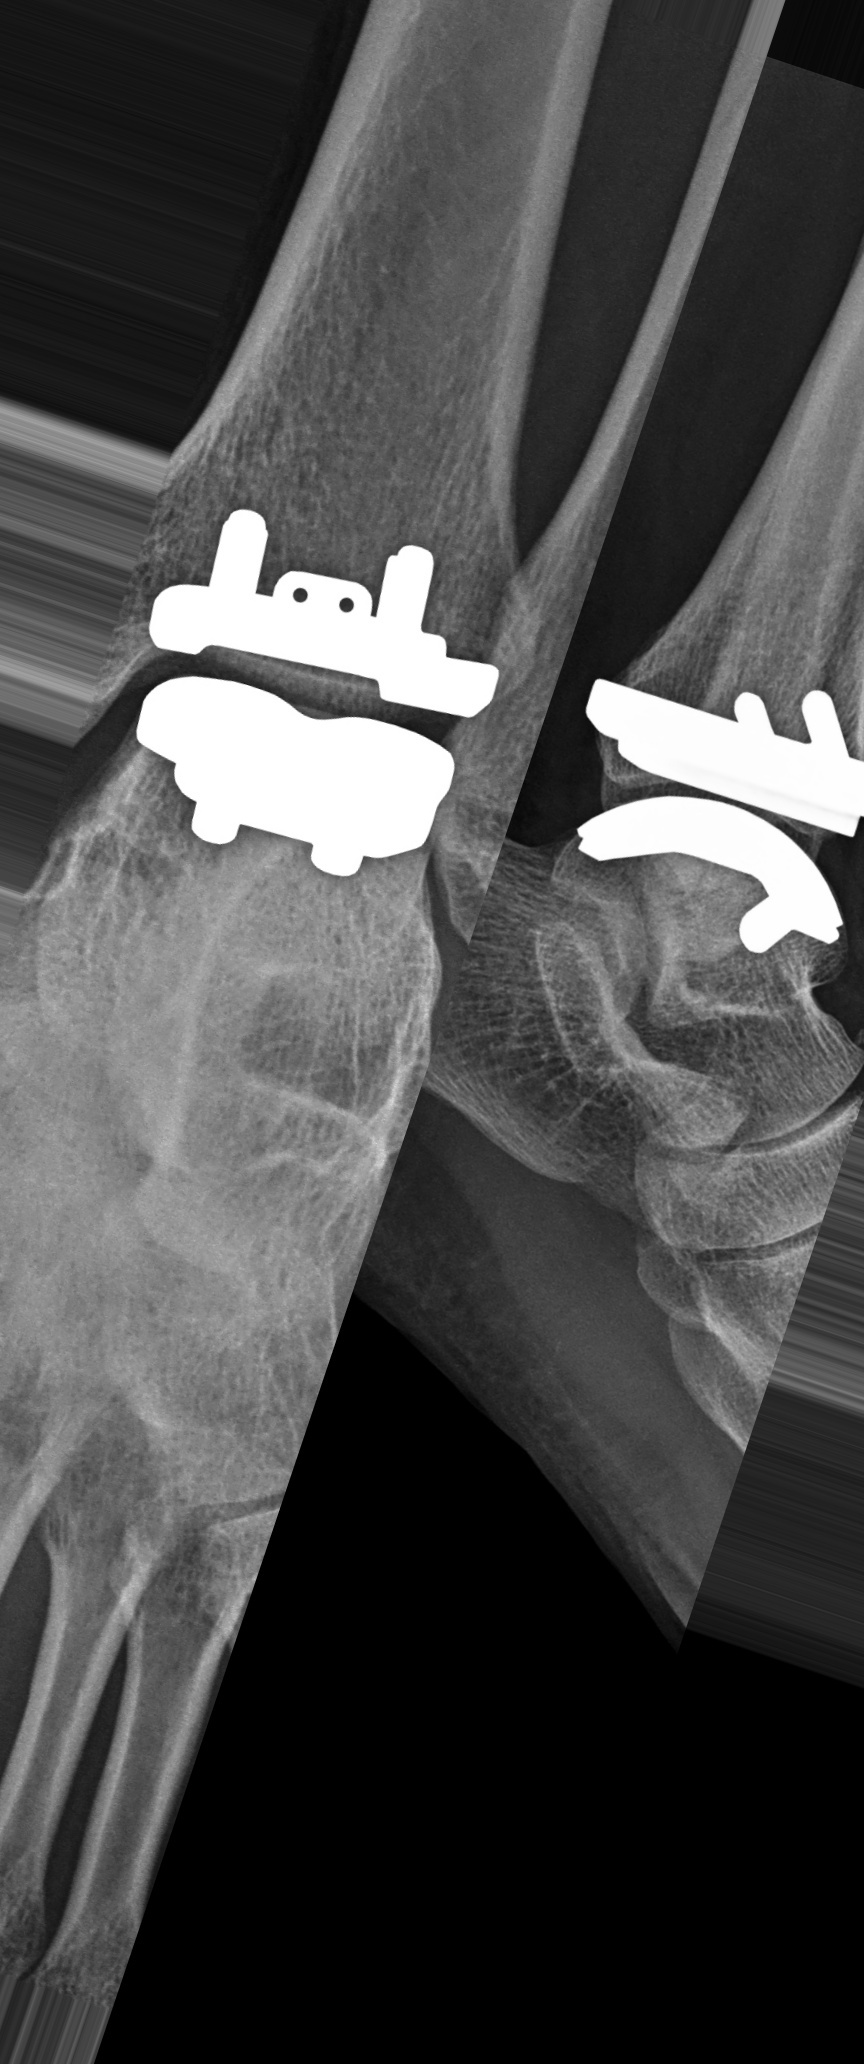Cadence-Integra: (125, 482, 515, 890), (566, 611, 864, 956)
